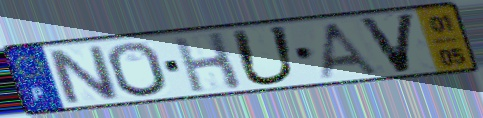A: (315, 20, 382, 81)
H: (169, 29, 246, 94)
N: (43, 43, 124, 106)
O: (104, 40, 172, 99)
U: (227, 23, 301, 88)
V: (354, 11, 419, 76)
